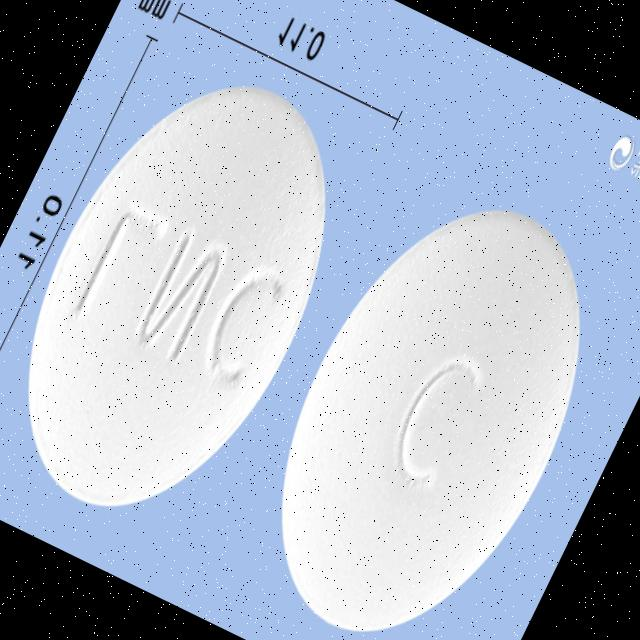Mega Ciflox: (218, 162, 640, 640), (0, 41, 386, 553)
